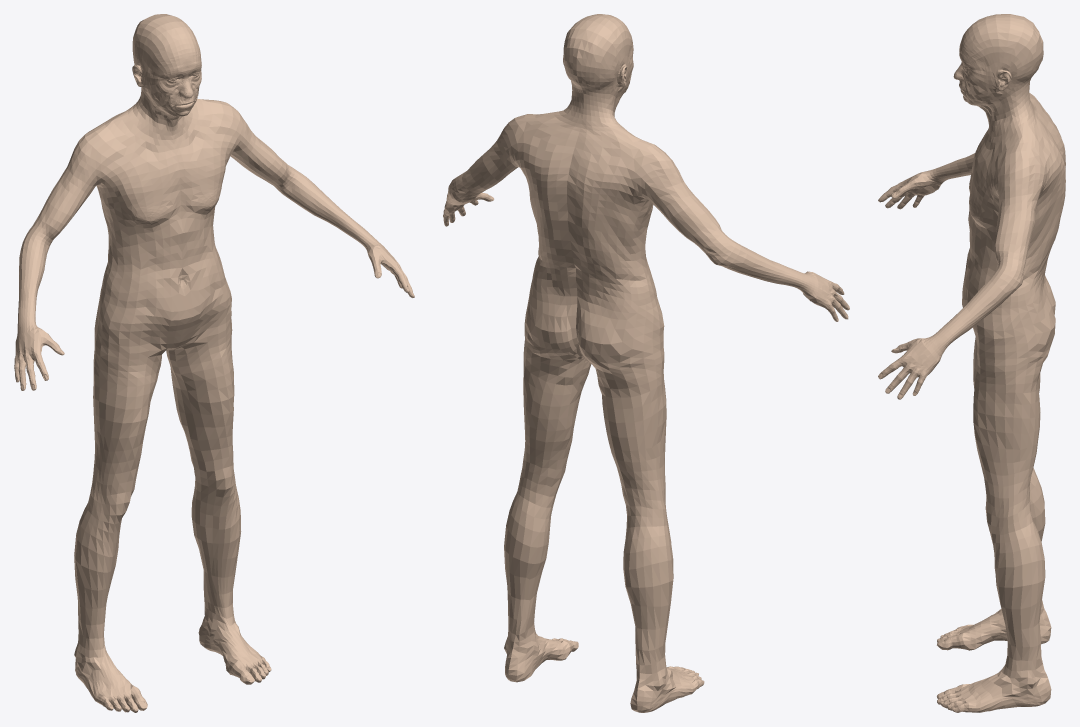
The model's file is male-elder-lean-high.glb.
3 views of the same model, side by side, from view 1: azimuth 30°, elevation 25°; view 2: azimuth 150°, elevation 25°; view 3: azimuth 270°, elevation 25° (orthographic).
Visible parts, largest first — view 1: world; view 2: world; view 3: world.
Boxes of the visible parts, box(x1,y1,x2,y2) form: world: box(14, 14, 414, 712); world: box(443, 14, 849, 712); world: box(878, 14, 1065, 712).
Bounding box in the file's own units: 1.2 × 1.92 × 0.4972.
